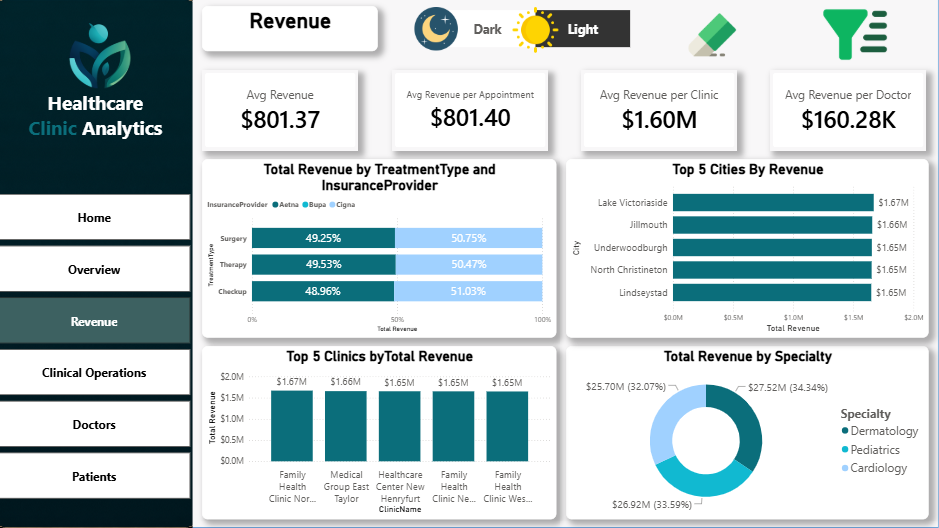

This screenshot's page, from the dashboard's own definition file:
{"tool":"powerbi","page":{"name":"Revenue","canvas":[1600,900],"ordinal":2},"visuals":[{"type":"shape","box":[0,0,1600.2,900],"z":0},{"type":"image","box":[0,0,331.2,900],"z":1000},{"type":"cardVisual","fields":{"Data":["DimMeasure.Avg Revenue"]},"box":[347.4,120.6,266.4,136.8],"z":2000},{"type":"cardVisual","fields":{"Data":["DimMeasure.Avg Revenue per Appointment"]},"box":[669.6,120.6,266.4,136.8],"z":3000},{"type":"cardVisual","fields":{"Data":["DimMeasure.Avg Revenue per Clinic"]},"box":[991.8,120.6,266.4,136.8],"z":4000},{"type":"cardVisual","fields":{"Data":["DimMeasure.Avg Revenue per Doctor"]},"box":[1314,120.6,266.4,136.8],"z":5000},{"type":"slicer","fields":{"Values":["ColorTheme.Mode"]},"box":[727.2,12.6,372.6,77.4],"z":6000},{"type":"donutChart","fields":{"Category":["DimDoctor.Specialty"],"Y":["DimMeasure.Total Revenue"]},"box":[966.6,590.4,617.4,295.2],"z":7000},{"type":"hundredPercentStackedBarChart","fields":{"Category":["DimTreatment.TreatmentType"],"Series":["DimPatient.InsuranceProvider"],"Y":["DimMeasure.Total Revenue"]},"box":[347.4,271.8,603,304.2],"z":8000},{"type":"clusteredColumnChart","title":"Top 5 Clinics byTotal Revenue ","fields":{"Category":["DimClinic.ClinicName"],"Y":["DimMeasure.Total Revenue"]},"box":[347.4,590.4,603,295.2],"z":9000},{"type":"textbox","title":"Revenue","box":[347.4,12.6,298.8,77.4],"z":10000},{"type":"image","box":[693,14.4,106.2,73.8],"z":11000},{"type":"image","box":[868.8,13,89.3,78.1],"z":12000},{"type":"clusteredBarChart","title":"Top 5 Cities By Revenue","fields":{"Category":["DimClinic.City"],"Y":["DimMeasure.Total Revenue"]},"box":[966.6,271.8,617.4,304.2],"z":13000},{"type":"image","box":[1312.7,0,287.3,121.1],"z":21000},{"type":"image","box":[1118.2,20.2,195,80.7],"z":23000},{"type":"pageNavigator","box":[0,331.2,327.6,518.4],"z":24000},{"type":"textbox","box":[0,147.6,331.2,171],"z":25000},{"type":"image","box":[10,10,327.6,189],"z":26000}]}

Visuals, with their boxes in screenshot pixels (x1, y1, x2, y2), scaled from the page's 1600x900 canvas onto the 939x528 screenshot:
shape: x1=0 y1=0 x2=938 y2=527
image: x1=0 y1=0 x2=194 y2=527
cardVisual - DimMeasure.Avg Revenue: x1=204 y1=71 x2=360 y2=151
cardVisual - DimMeasure.Avg Revenue per Appointment: x1=393 y1=71 x2=549 y2=151
cardVisual - DimMeasure.Avg Revenue per Clinic: x1=582 y1=71 x2=738 y2=151
cardVisual - DimMeasure.Avg Revenue per Doctor: x1=771 y1=71 x2=927 y2=151
slicer - ColorTheme.Mode: x1=427 y1=7 x2=645 y2=53
donutChart - DimDoctor.Specialty x DimMeasure.Total Revenue: x1=567 y1=346 x2=930 y2=520
hundredPercentStackedBarChart - DimTreatment.TreatmentType x DimPatient.InsuranceProvider: x1=204 y1=159 x2=558 y2=338
"Top 5 Clinics byTotal Revenue " clusteredColumnChart: x1=204 y1=346 x2=558 y2=520
"Revenue" textbox: x1=204 y1=7 x2=379 y2=53
image: x1=407 y1=8 x2=469 y2=52
image: x1=510 y1=8 x2=562 y2=53
"Top 5 Cities By Revenue" clusteredBarChart: x1=567 y1=159 x2=930 y2=338
image: x1=770 y1=0 x2=938 y2=71
image: x1=656 y1=12 x2=771 y2=59
pageNavigator: x1=0 y1=194 x2=192 y2=498
textbox: x1=0 y1=87 x2=194 y2=187
image: x1=6 y1=6 x2=198 y2=117
